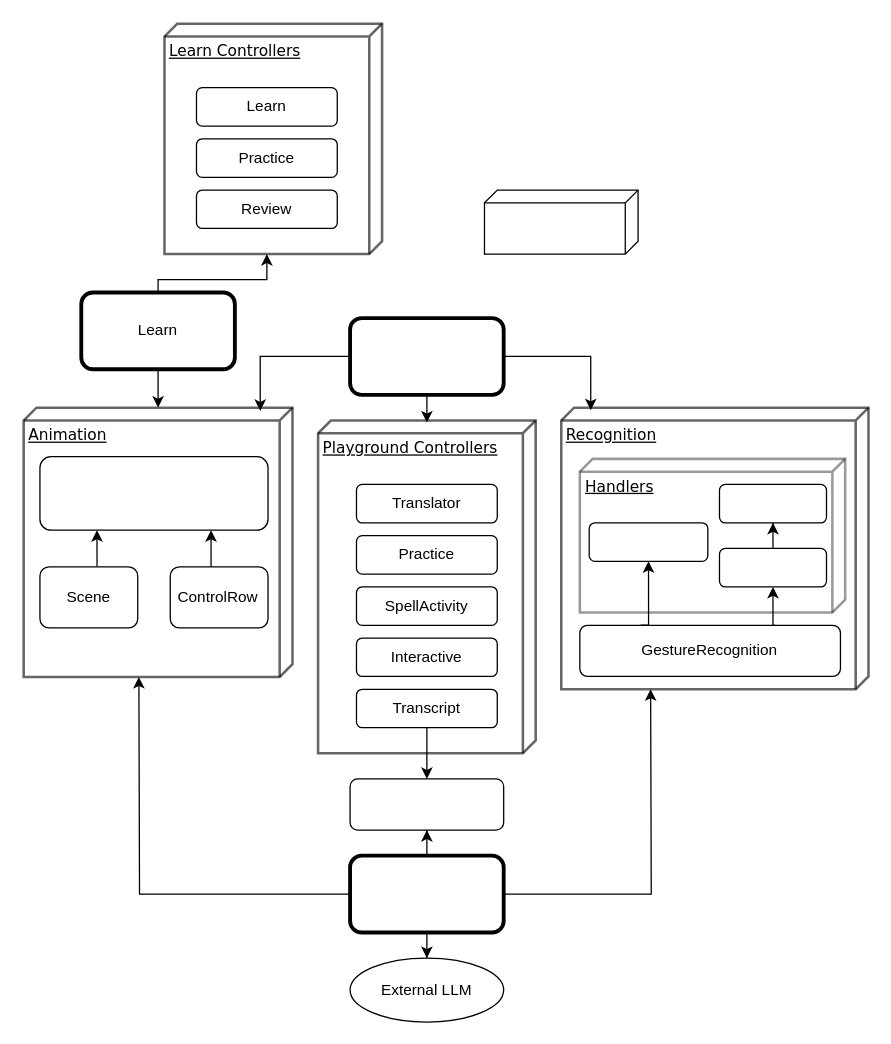
This 891x1044 diagram has some shape labels left out. The centre of each missing label's shape, as x and y in pixels:
AnimatedModel: point (153, 492)
Classificator: point (772, 503)
ClassificatorDF: point (772, 567)
Conversation: point (426, 893)
CSLR: point (426, 804)
Landmarks Processor: point (648, 541)
Models: point (560, 221)
Playground: point (426, 356)
